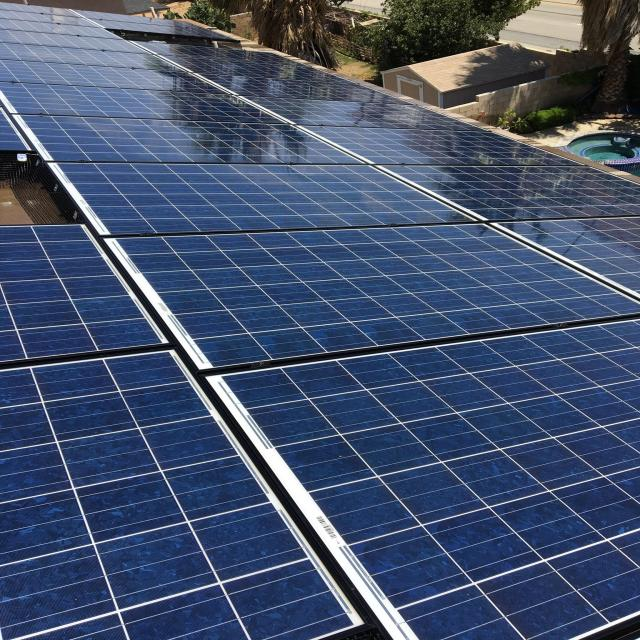clean-solar-panel: (0, 5, 638, 640)
